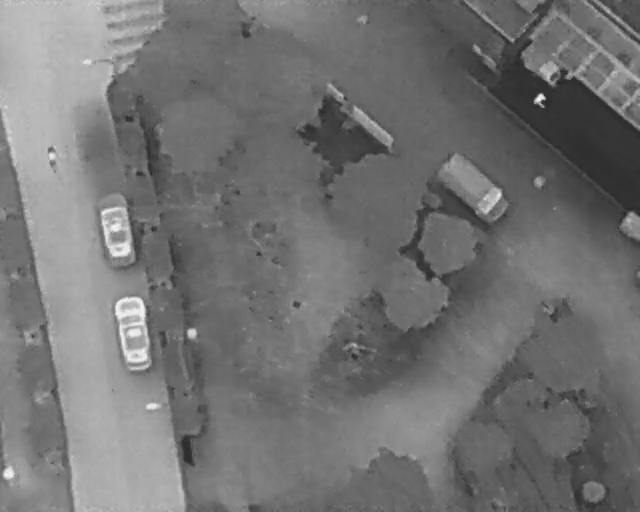Car: (427, 146, 517, 230), (92, 191, 140, 271), (111, 291, 156, 373)
Person: (535, 91, 547, 109)
